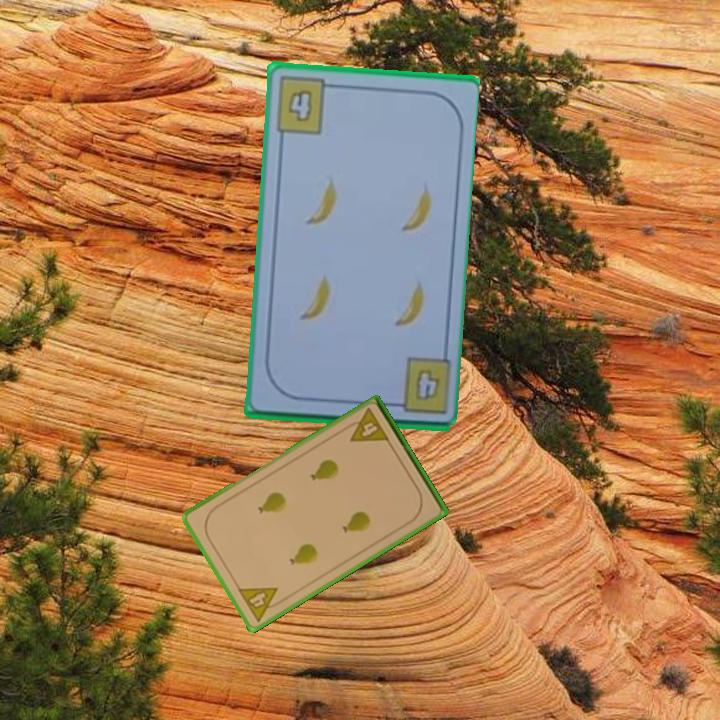4b: (271, 73, 338, 137), (411, 364, 443, 404)
4p: (234, 584, 287, 625), (340, 404, 392, 445)
